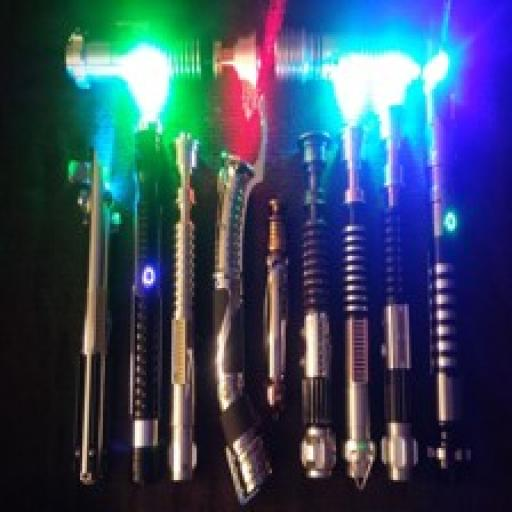lightsaber: (61, 141, 122, 483), (424, 75, 471, 480), (218, 147, 269, 505), (70, 22, 265, 102), (378, 94, 417, 484), (296, 128, 336, 481), (340, 122, 378, 490), (124, 124, 162, 489), (170, 130, 200, 488), (264, 191, 290, 416)
